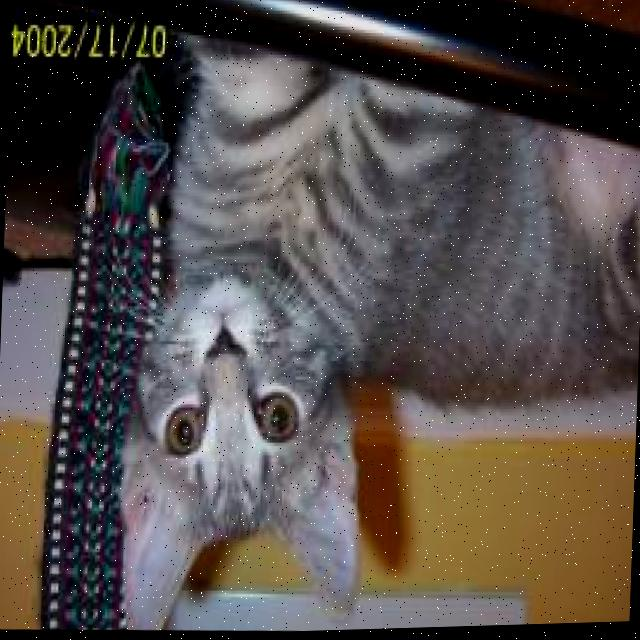Egyptian Mau: (110, 22, 640, 637)
